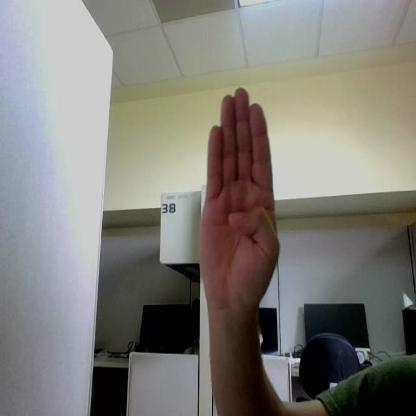B: (199, 89, 278, 307)
